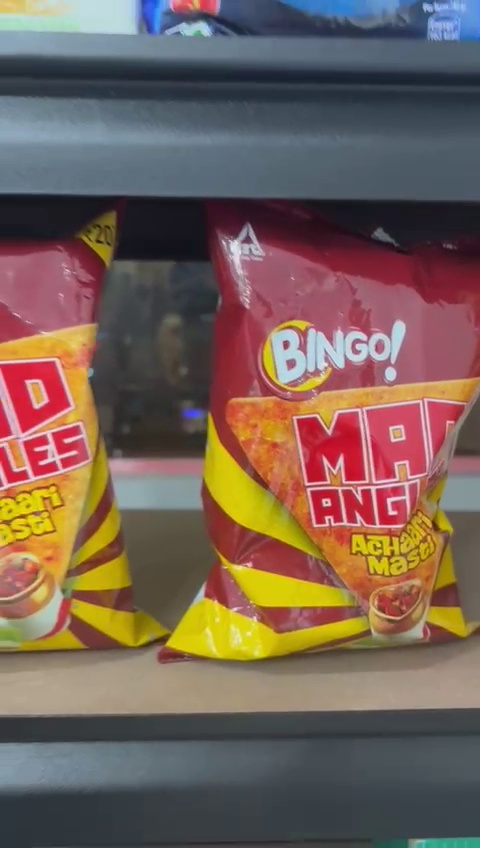Bingo Mad Angles: (203, 221, 479, 666)
